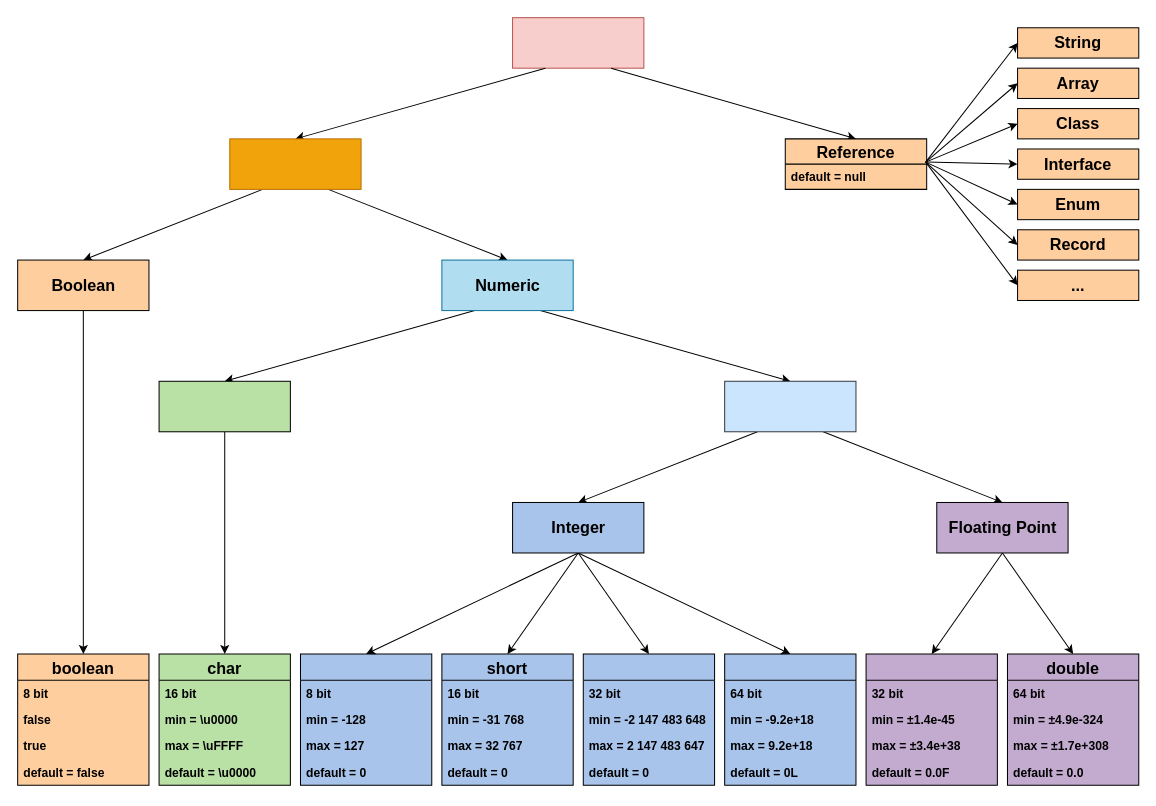
This 1156x806 diagram has some shape labels left out. Each missing label, with the box of its shape:
byte: (299, 653, 432, 785)
Character: (158, 380, 290, 432)
Data Types: (512, 17, 644, 68)
float: (865, 653, 997, 785)
int: (582, 653, 715, 785)
Integral: (724, 380, 856, 432)
long: (724, 653, 856, 785)
Primitive: (229, 138, 361, 189)
